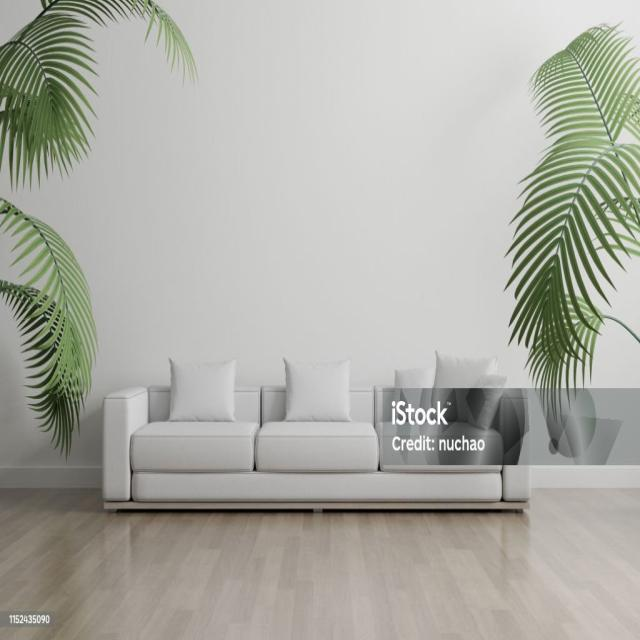back_cushion: (149, 355, 505, 428)
base: (132, 472, 501, 502)
left_arm: (498, 389, 530, 500)
right_arm: (103, 387, 148, 500)
seat_cushion: (131, 422, 501, 472)
stallion-sofa1: (102, 360, 530, 510)
